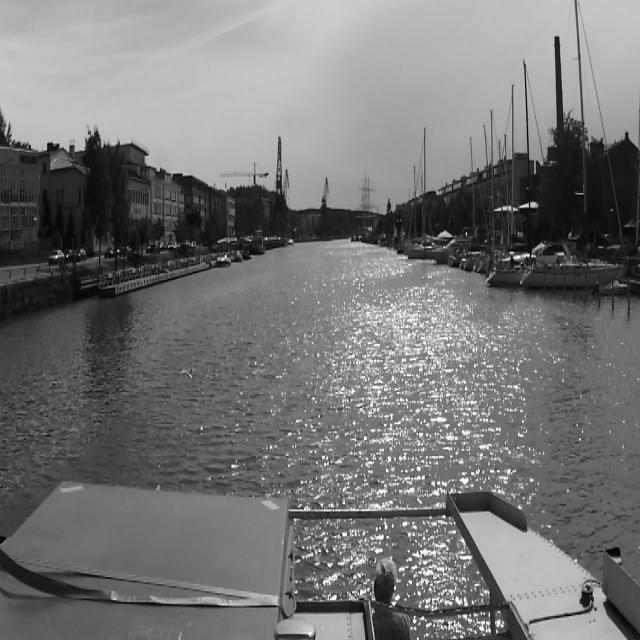ship: (520, 0, 629, 297), (486, 84, 526, 290), (407, 127, 437, 261), (484, 132, 510, 276), (448, 136, 474, 267), (474, 124, 488, 271), (356, 170, 378, 241), (216, 254, 232, 268), (235, 250, 242, 258)
